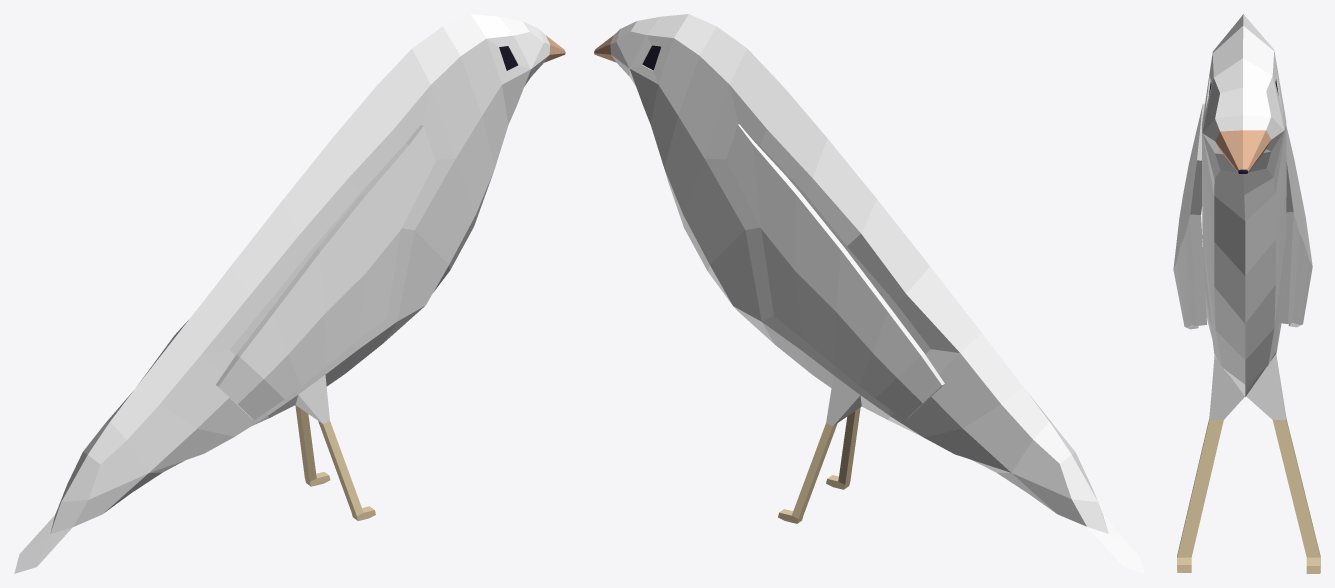
File: bird.fbx
The picture shows the model from 3 angles, left to right: view 1: azimuth 30°, elevation 25°; view 2: azimuth 150°, elevation 25°; view 3: azimuth 270°, elevation 25°; orthographic projection. The views are drawn at different scales.
Parts seen in each view (by area): view 1: bird, AsaEsquerda; view 2: bird, AsaDireita; view 3: bird, AsaEsquerda, AsaDireita.
Boxes of the visible parts, bbox=[...] form: bird: bbox=[14, 14, 565, 573]; AsaEsquerda: bbox=[216, 125, 435, 420]; bird: bbox=[594, 14, 1144, 573]; AsaDireita: bbox=[726, 124, 944, 419]; bird: bbox=[1177, 14, 1320, 573]; AsaEsquerda: bbox=[1173, 103, 1206, 329]; AsaDireita: bbox=[1277, 126, 1312, 327].
Bounding box in the file's own units: 2646 × 2097 × 444.
